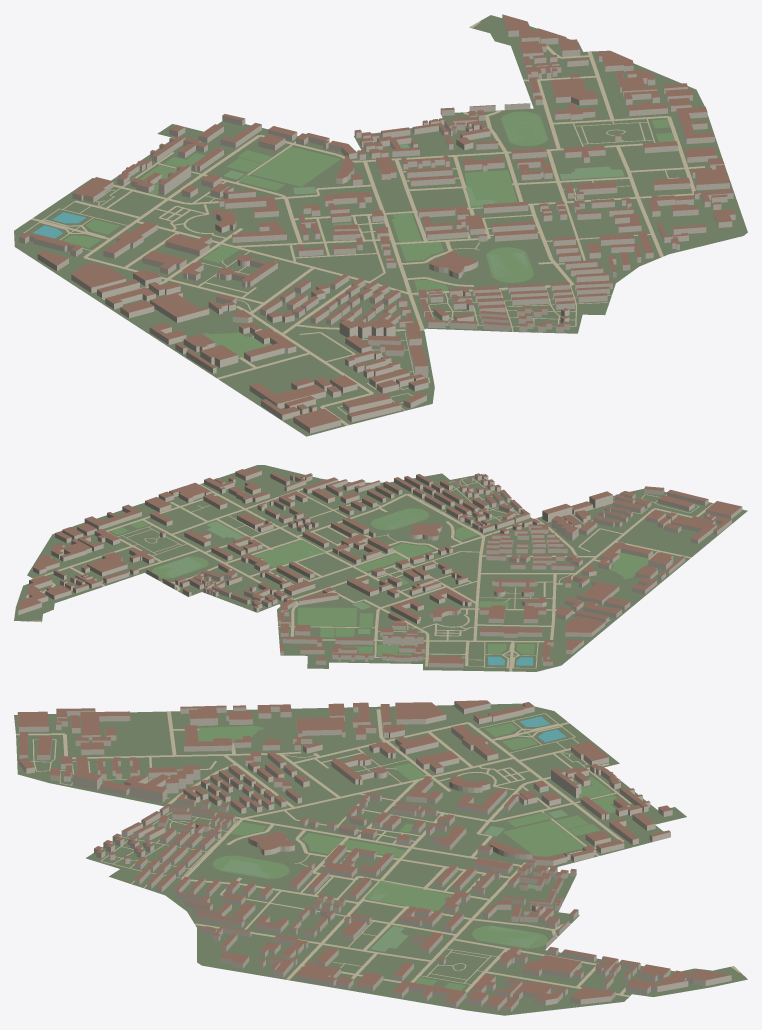
3 views of the same model, one above another, from view 1: azimuth 30°, elevation 25°; view 2: azimuth 150°, elevation 25°; view 3: azimuth 270°, elevation 25° (orthographic). The views are drawn at different scales.
Parts seen in each view (by area): view 1: campus-ground, buildings, roofs, environment (×3); view 2: campus-ground, buildings, roofs, environment (×3); view 3: campus-ground, roofs, buildings, environment (×3).
Boxes of the visible parts, box(x1,y1,x2,y2) form: campus-ground: box(14, 15, 747, 436); buildings: box(19, 15, 735, 433); roofs: box(19, 14, 735, 427); environment (×3): box(23, 21, 705, 425); campus-ground: box(14, 465, 747, 671); buildings: box(18, 470, 742, 667); roofs: box(18, 467, 741, 663); environment (×3): box(28, 478, 713, 671); campus-ground: box(14, 703, 747, 1015); roofs: box(17, 700, 730, 1007); buildings: box(17, 701, 731, 1012); environment (×3): box(16, 709, 740, 996).
Size of the model in its own units: 1519 by 23.3 by 1509.
